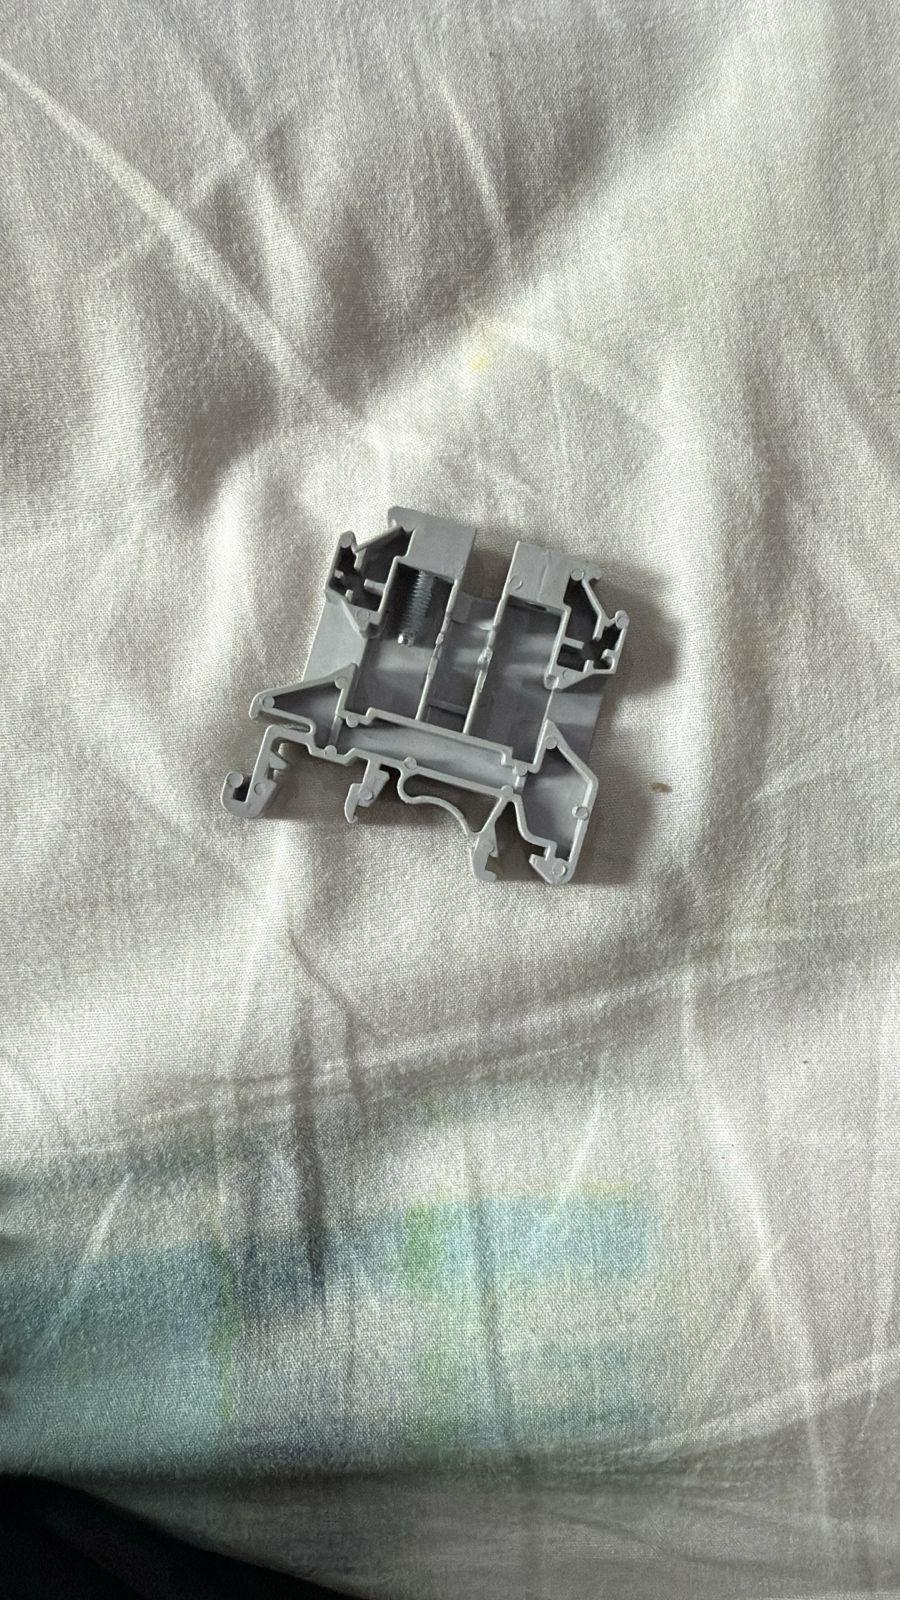Reject: (226, 501, 638, 901)
